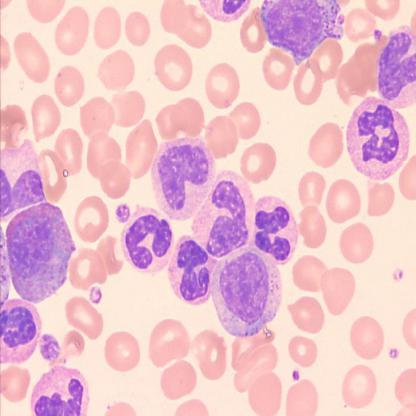Myelocyte: (5, 199, 76, 302), (211, 239, 283, 337)
